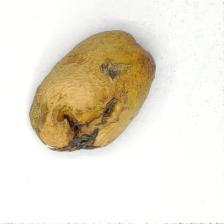NG: (53, 96, 124, 153), (93, 53, 132, 91)
